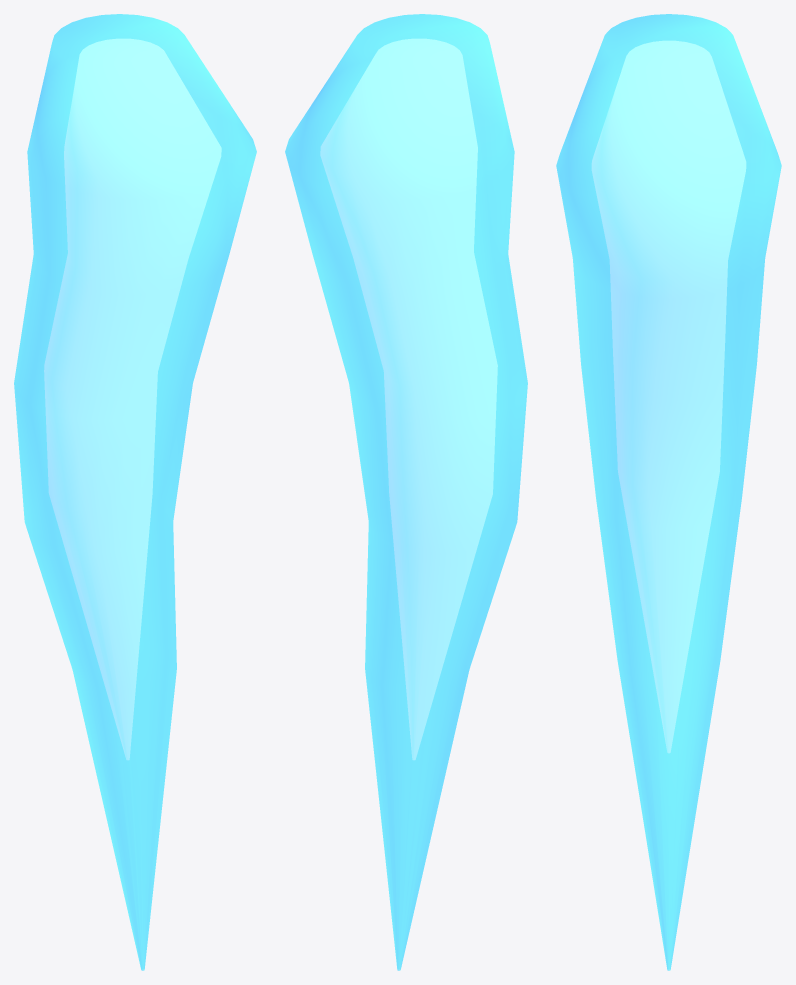
The model's file is enemy_scout_jet_flame.glb.
3 renders of one model, left to right at view 1: azimuth 30°, elevation 25°; view 2: azimuth 150°, elevation 25°; view 3: azimuth 270°, elevation 25°, orthographic.
Visible parts, largest first — view 1: Outer Blue Flame, Inner Pale Flame; view 2: Outer Blue Flame, Inner Pale Flame; view 3: Outer Blue Flame, Inner Pale Flame.
Boxes of the visible parts, left/top/right/bottom form: Outer Blue Flame: left=14, top=14, right=256, bottom=970; Inner Pale Flame: left=44, top=38, right=221, bottom=760; Outer Blue Flame: left=285, top=14, right=527, bottom=970; Inner Pale Flame: left=320, top=38, right=497, bottom=760; Outer Blue Flame: left=556, top=14, right=781, bottom=970; Inner Pale Flame: left=591, top=40, right=746, bottom=753.
Bounding box in the file's own units: 0.1474 × 0.61 × 0.136.
